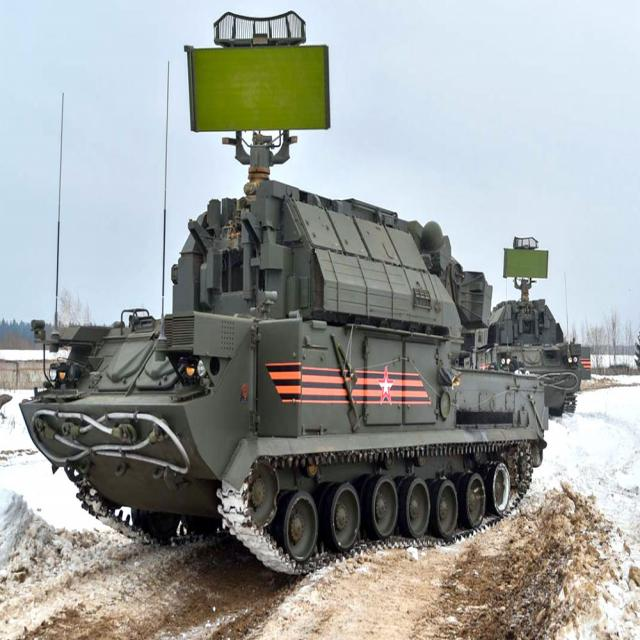MIL_EW_RDR: (37, 51, 570, 546)
